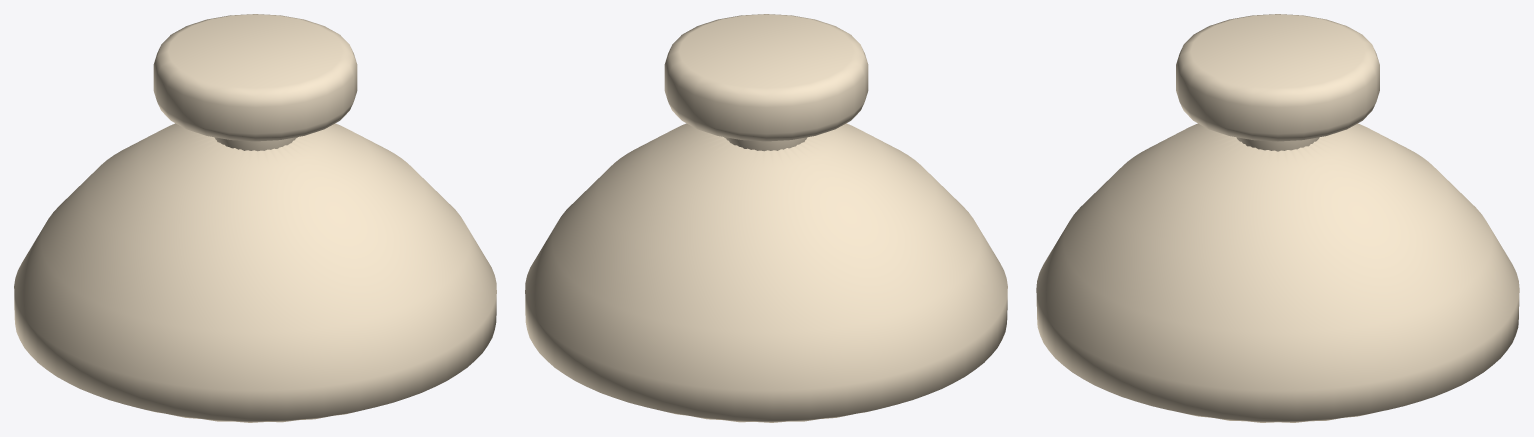
The model's file is ceiling_light_a.glb.
The picture shows the model from 3 angles, left to right: view 1: azimuth 30°, elevation 25°; view 2: azimuth 150°, elevation 25°; view 3: azimuth 270°, elevation 25°; orthographic projection.
Parts seen in each view (by area): view 1: body; view 2: body; view 3: body.
Boxes of the visible parts, x1=… form: body: x1=14, y1=14, x2=496, y2=422; body: x1=525, y1=14, x2=1007, y2=422; body: x1=1036, y1=14, x2=1519, y2=422.
Bounding box in the file's own units: 0.332 × 0.22 × 0.332.
